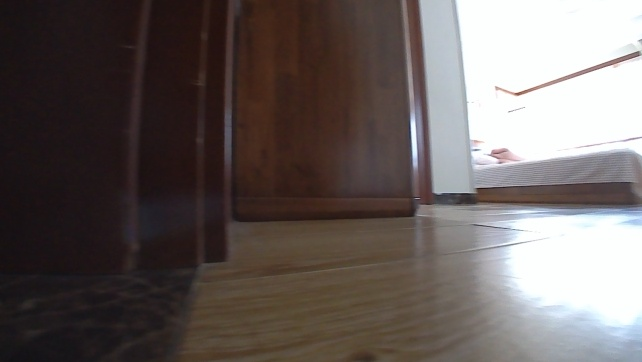bed: (465, 138, 641, 208)
